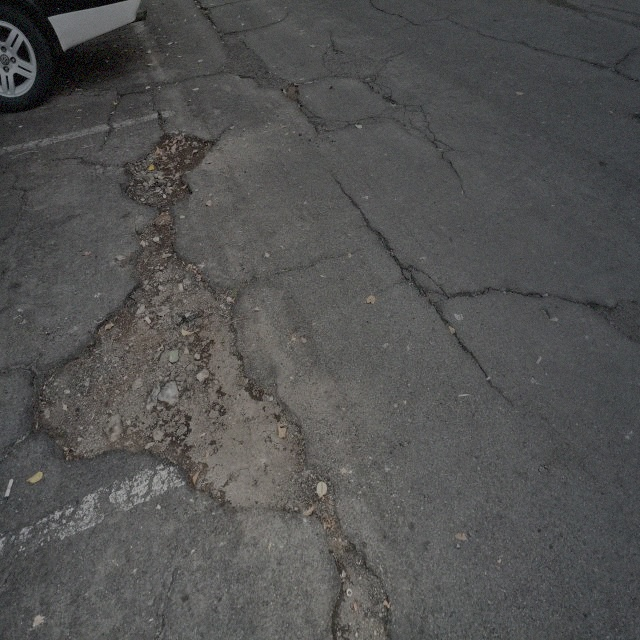pothole: (32, 190, 305, 542), (124, 118, 218, 225), (318, 538, 394, 637)
